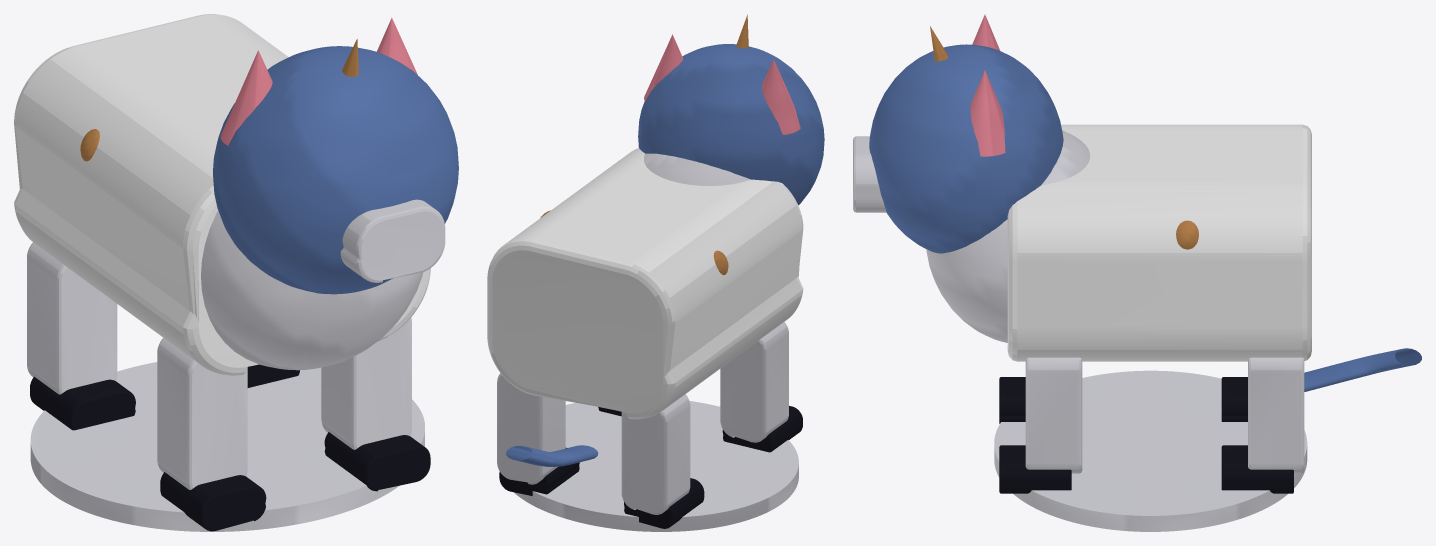
Rendered from 0160_恐龙图鉴_镰刀龙.glb.
The picture shows the model from 3 angles, left to right: view 1: azimuth 30°, elevation 25°; view 2: azimuth 150°, elevation 25°; view 3: azimuth 270°, elevation 25°; orthographic projection. The views are drawn at different scales.
Visible parts, largest first — view 1: card_0160; view 2: card_0160; view 3: card_0160.
Boxes of the visible parts, x1,y1,x2,y2 form: card_0160: (14,14,458,531); card_0160: (487,14,824,531); card_0160: (853,14,1421,531).
Size of the model in its own units: 0.7176 by 1 by 1.19.
